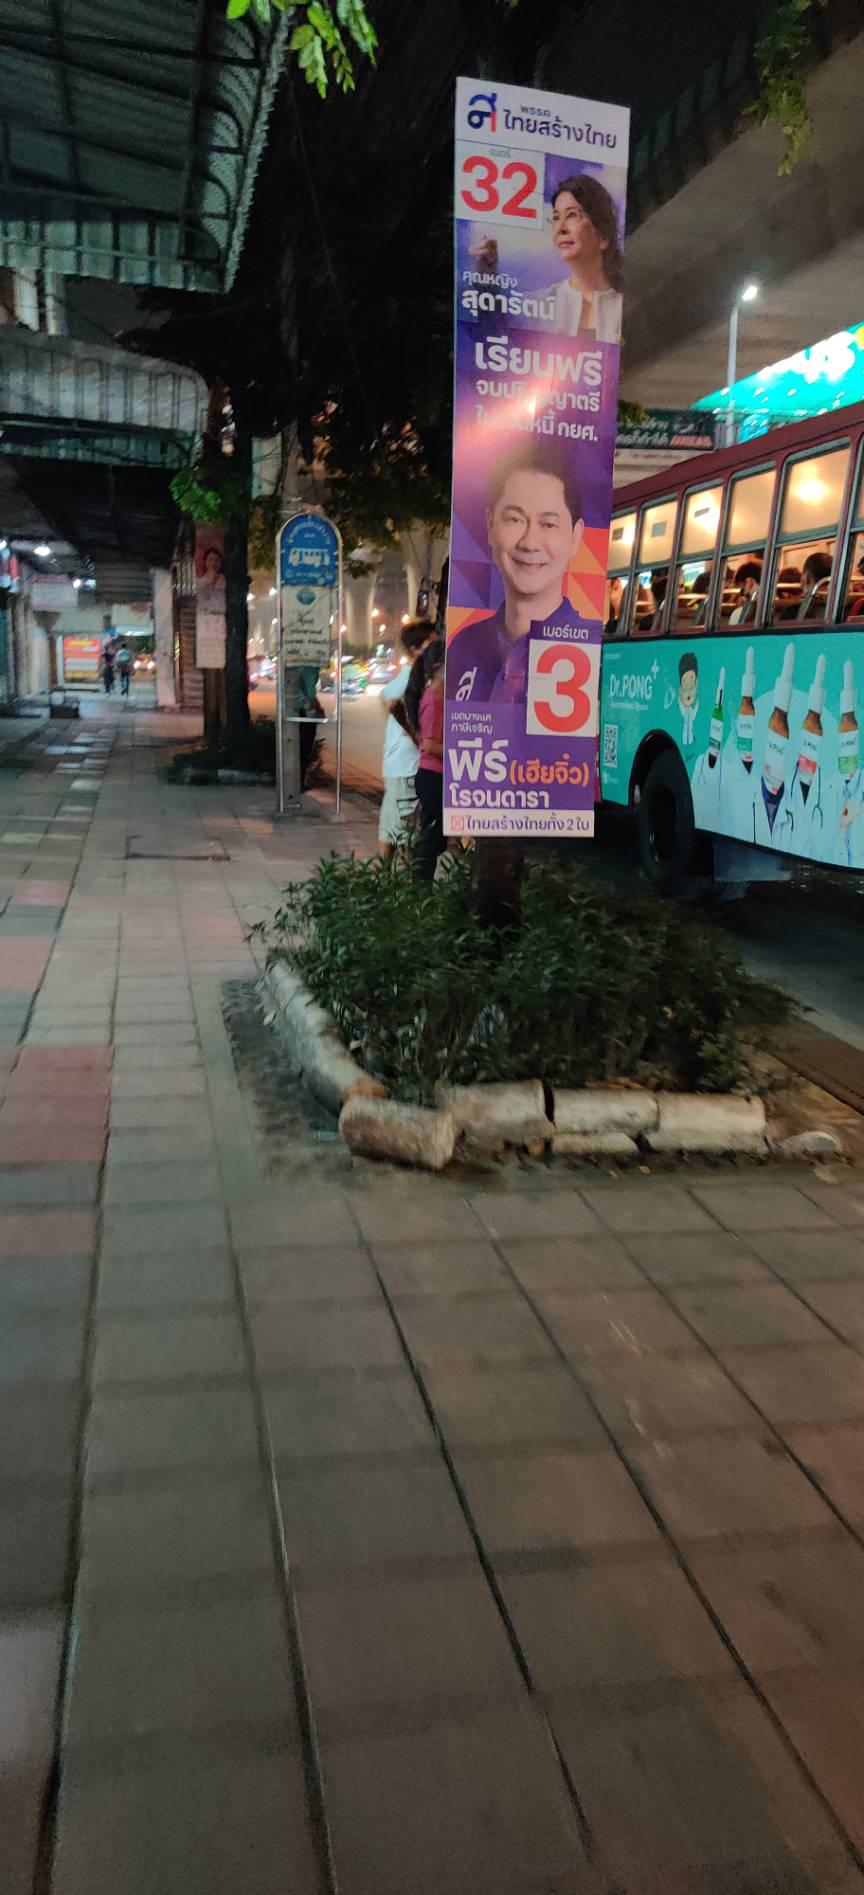Banner: (443, 74, 631, 845)
